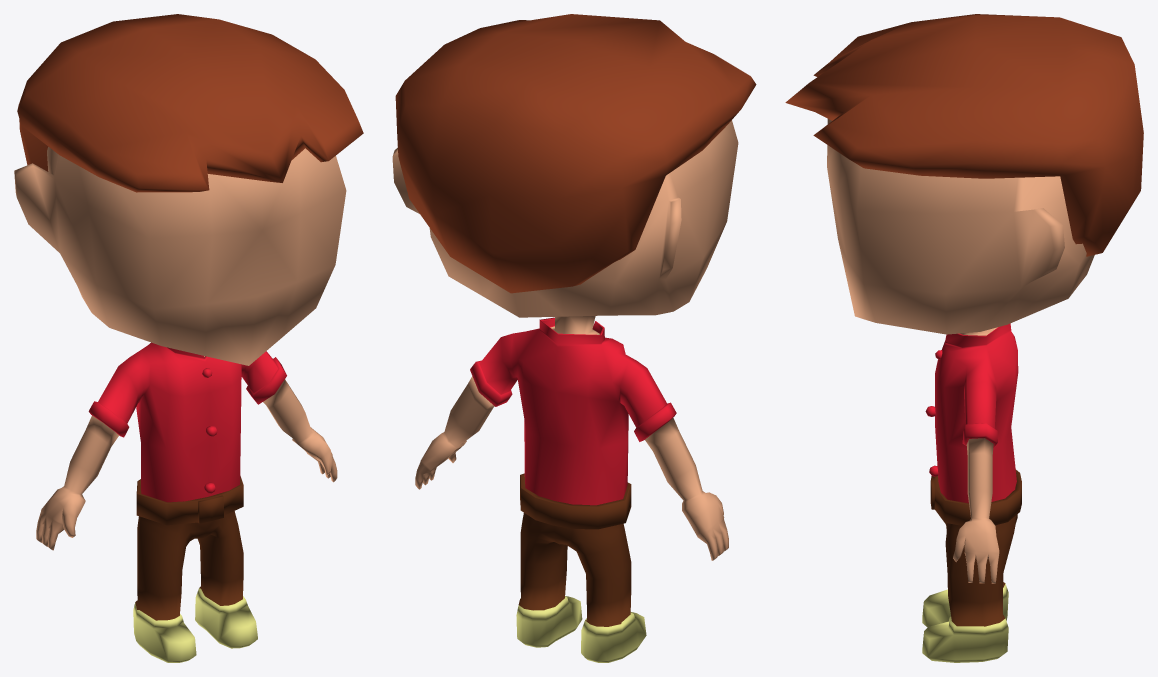
Rendered from brock blockout v5.fbx.
The picture shows the model from 3 angles, left to right: view 1: azimuth 30°, elevation 25°; view 2: azimuth 150°, elevation 25°; view 3: azimuth 270°, elevation 25°; orthographic projection. The views are drawn at different scales.
Parts seen in each view (by area): view 1: Brock base.001; view 2: Brock base.001; view 3: Brock base.001.
Part boxes in pixels (x1=…): Brock base.001: x1=14, y1=14, x2=363, y2=662; Brock base.001: x1=392, y1=14, x2=756, y2=662; Brock base.001: x1=785, y1=14, x2=1143, y2=662.
Bounding box in the file's own units: 236 × 455 × 248.
